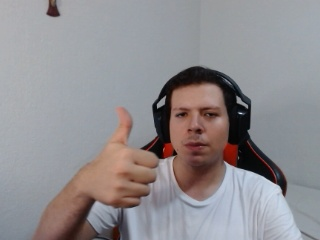Adelante: (75, 102, 165, 215)
